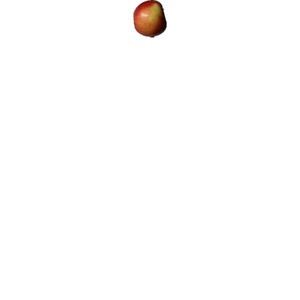maçã braeburn: (130, 1, 169, 38)
